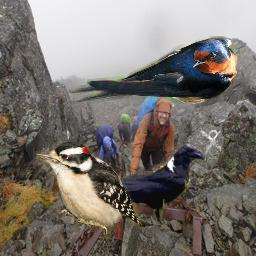Crow: (113, 142, 206, 225)
Swallow: (69, 36, 239, 104)
Woodpecker: (33, 142, 143, 239)
